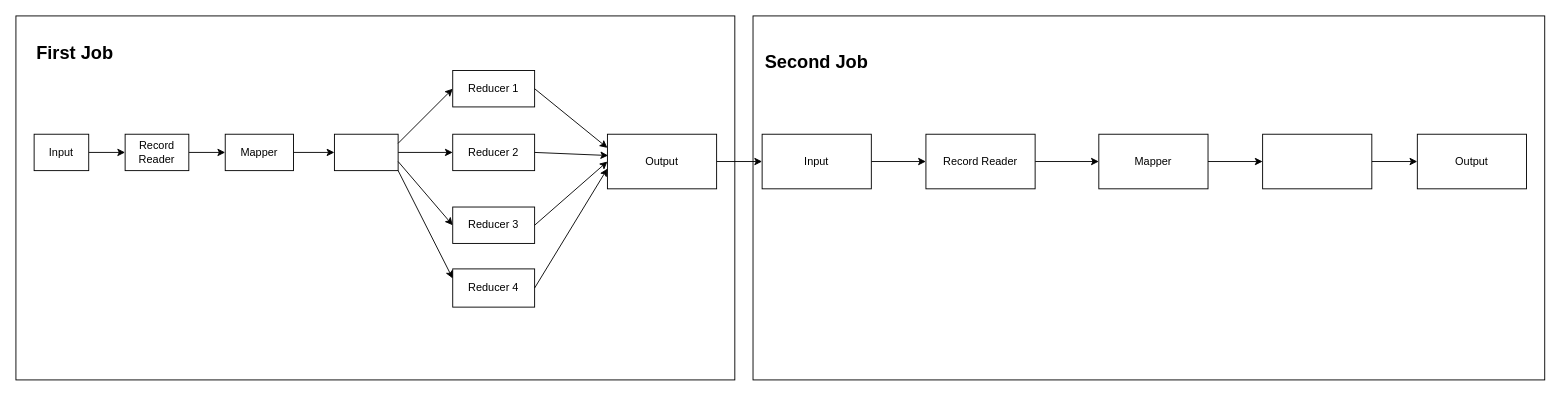
Some shapes in this 1561 by 396 pixel diagram are drawn without their labels. Here are the shapes that lost their labels. From the top down, the box of each, then its label:
(334, 133, 398, 171): Partitioner
(1262, 133, 1372, 189): Reducer
